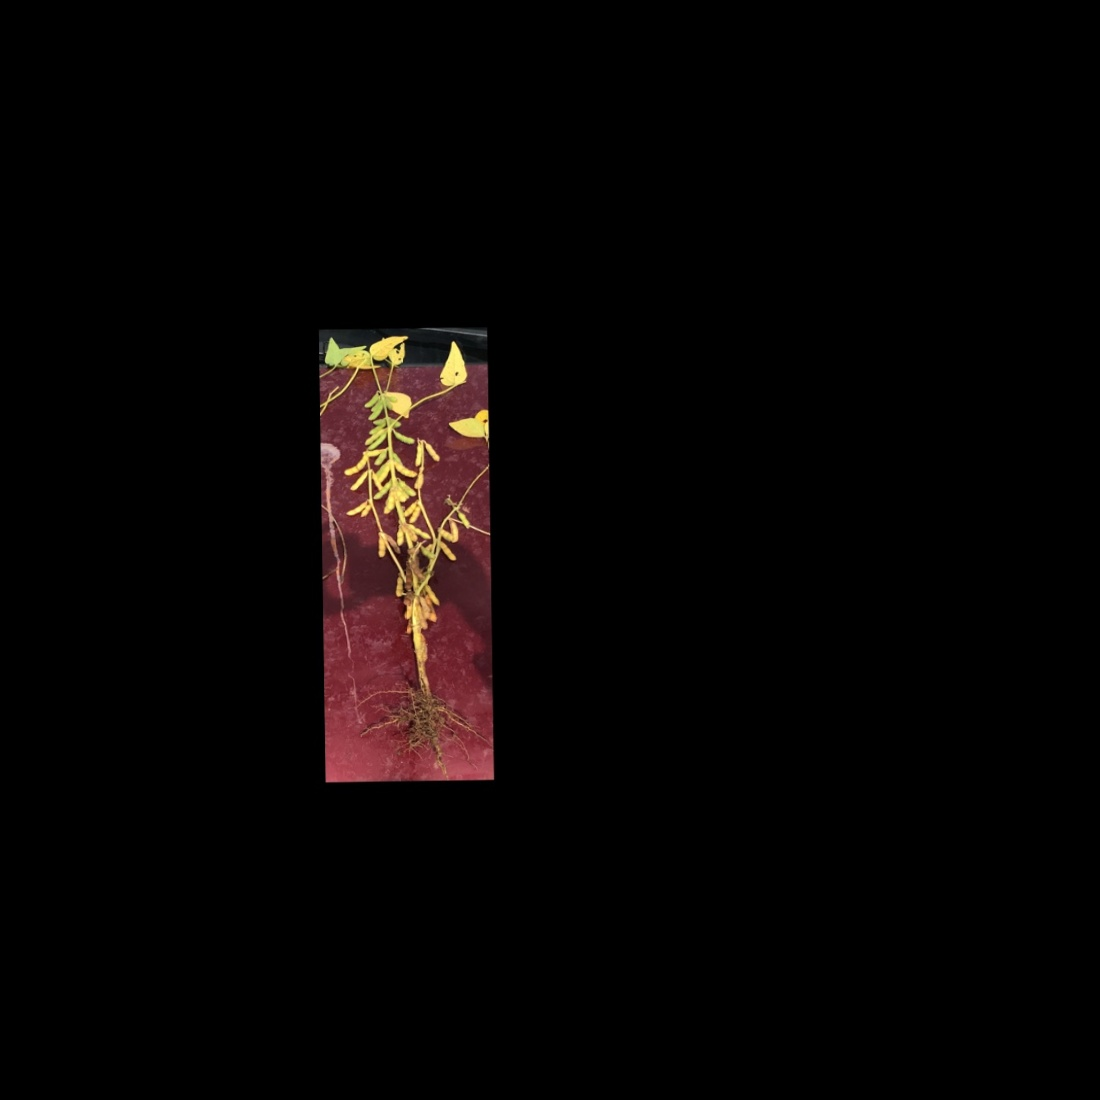pod: (341, 451, 371, 478), (435, 539, 460, 565), (404, 520, 433, 541), (388, 427, 416, 447), (364, 431, 389, 453), (422, 440, 443, 466), (363, 427, 389, 448), (342, 497, 368, 517), (371, 477, 392, 501), (394, 458, 418, 478), (406, 503, 428, 524), (365, 400, 386, 422), (423, 584, 442, 608), (348, 471, 370, 492), (373, 533, 388, 561), (391, 429, 417, 445), (372, 447, 389, 470), (411, 438, 424, 467), (434, 525, 458, 539), (361, 393, 381, 409), (395, 523, 407, 549), (393, 573, 404, 598)
soy: (323, 341, 483, 763)
